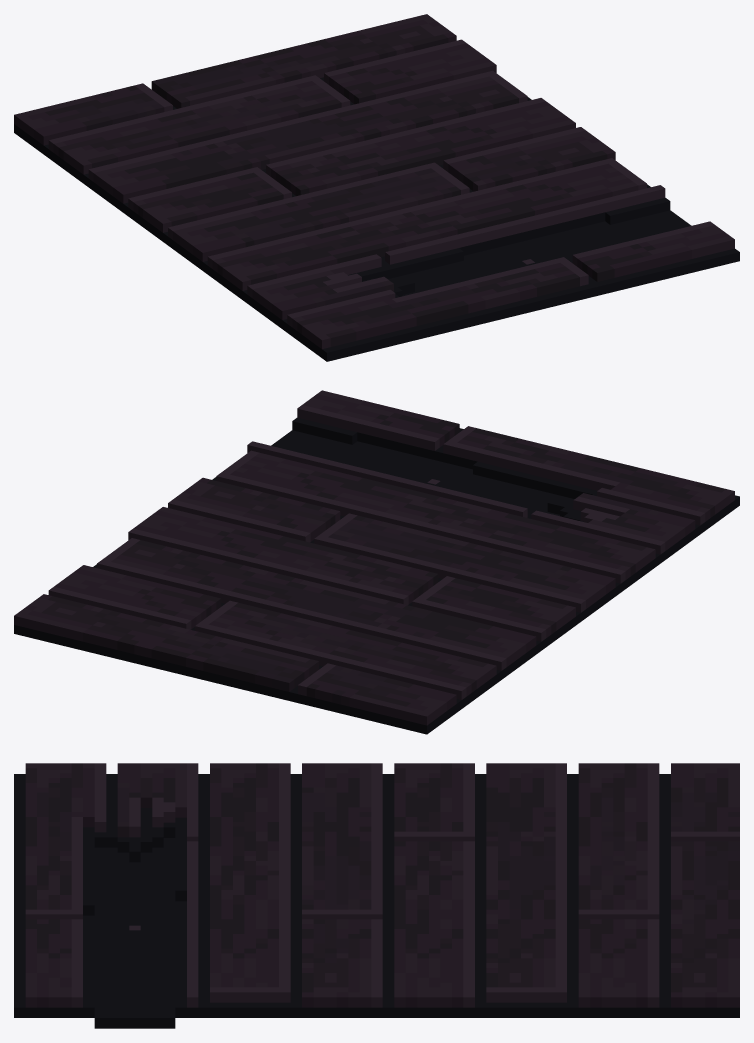
File: Floor-7.obj
3 renders of one model, top to bottom at view 1: azimuth 30°, elevation 25°; view 2: azimuth 150°, elevation 25°; view 3: azimuth 270°, elevation 25°, orthographic. The views are drawn at different scales.
Bounding box in the file's own units: 4.8 × 0.3 × 6.3.
1 material, 1 textured.
